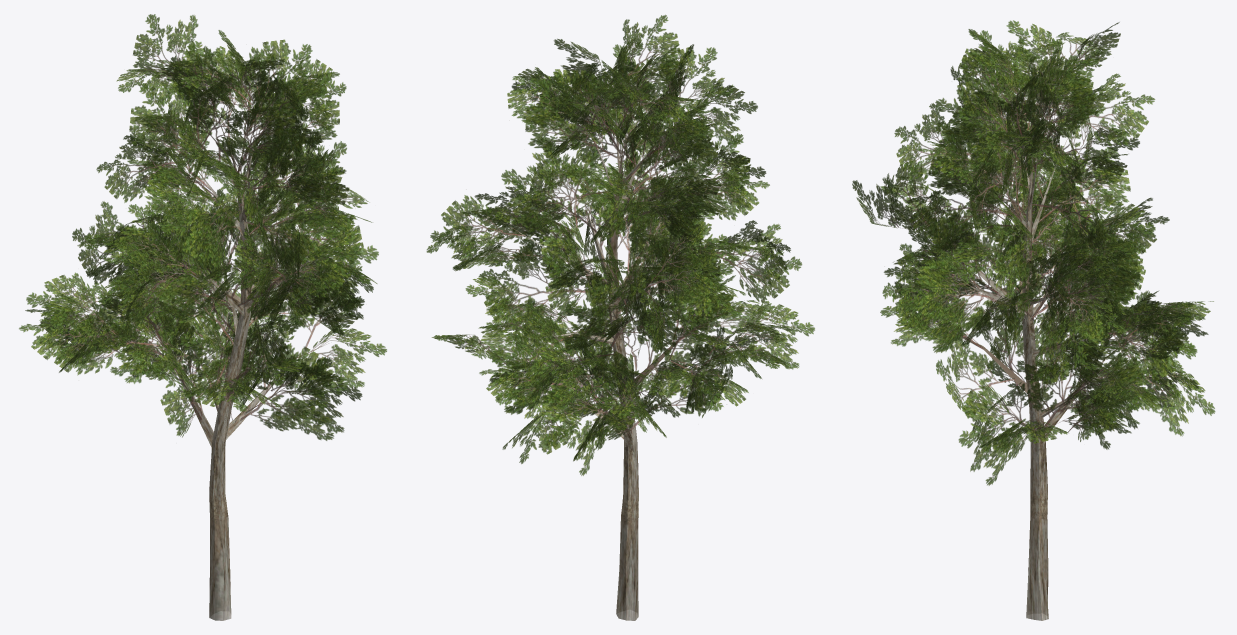
The model's file is tree_lowpoly2.glb.
3 renders of one model, left to right at view 1: azimuth 30°, elevation 25°; view 2: azimuth 150°, elevation 25°; view 3: azimuth 270°, elevation 25°, orthographic.
Parts seen in each view (by area): view 1: Tree 1; view 2: Tree 1; view 3: Tree 1.
Part boxes in pixels (x1,y1,x2,y2): Tree 1: (19,14,386,620); Tree 1: (426,15,814,620); Tree 1: (852,20,1215,620).
Size of the model in its own units: 5.65 by 8.99 by 5.22.
1 material, 1 textured.
